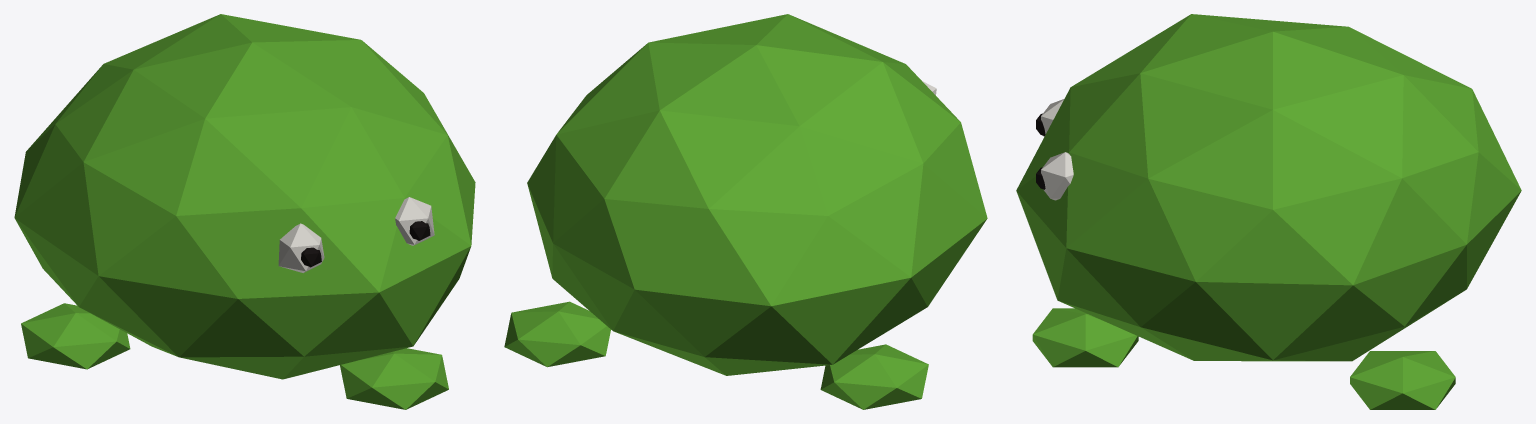
The model's file is horde_slime.glb.
3 views of the same model, side by side, from view 1: azimuth 30°, elevation 25°; view 2: azimuth 150°, elevation 25°; view 3: azimuth 270°, elevation 25° (orthographic). The views are drawn at different scales.
Parts seen in each view (by area): view 1: horde_slime; view 2: horde_slime; view 3: horde_slime.
Part boxes in pixels (bbox=[...]): horde_slime: bbox=[14, 14, 475, 409]; horde_slime: bbox=[504, 14, 987, 409]; horde_slime: bbox=[1016, 14, 1521, 409].
Bounding box in the file's own units: 1.58 × 1.17 × 1.75.
